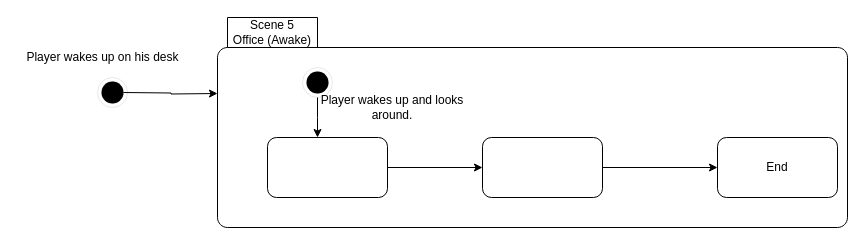
Some shapes in this 865 by 245 pixel diagram are drawn without their labels. Each missing label, with the centre of its shape:
"Boss starts talking behind him" goes at (x=327, y=167).
"Game slowely starts fading out." goes at (x=542, y=167).
